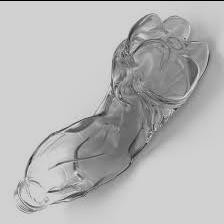Plastic: (10, 12, 211, 216)
